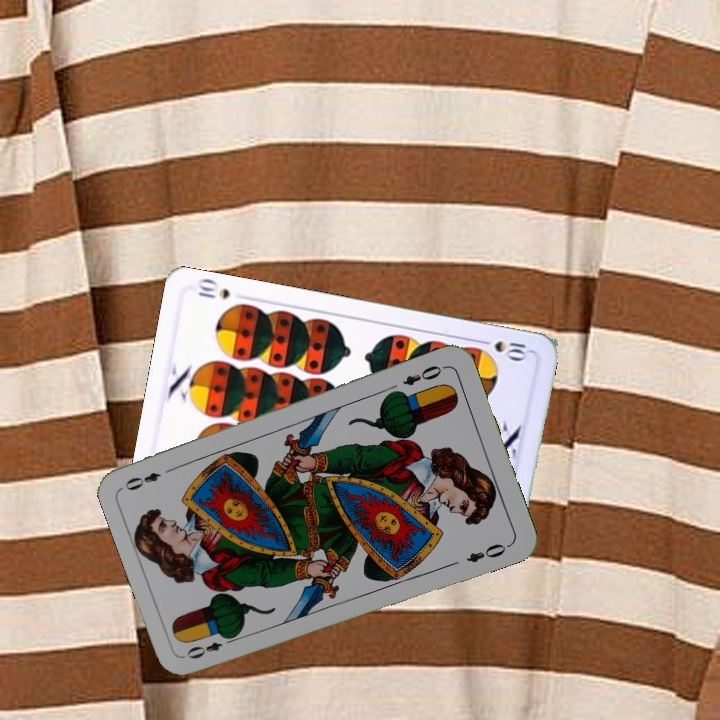EO: (182, 631, 239, 662), (399, 361, 449, 388)
S10: (474, 335, 533, 363)
